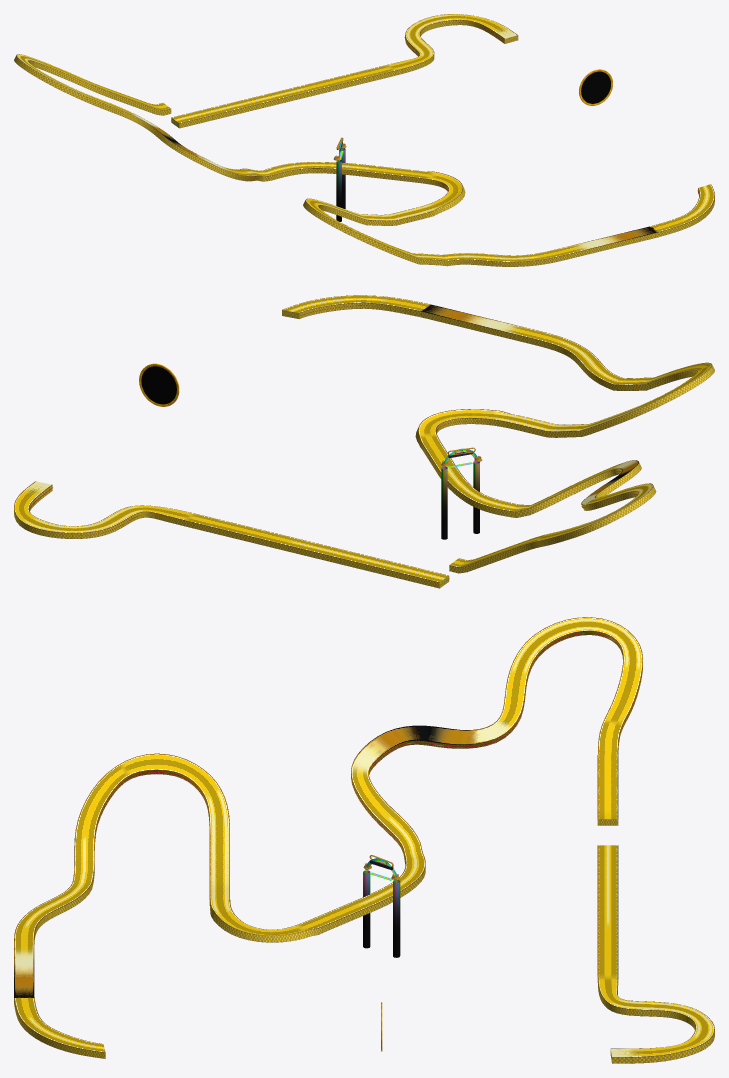
3 renders of one model, top to bottom at view 1: azimuth 30°, elevation 25°; view 2: azimuth 150°, elevation 25°; view 3: azimuth 270°, elevation 25°, orthographic. The views are drawn at different scales.
Parts seen in each view (by area): view 1: 002_Merged_Objects_1, 006_Body_LOD0, 005_Buffer_Object; view 2: 002_Merged_Objects_1, 006_Body_LOD0, 005_Buffer_Object; view 3: 002_Merged_Objects_1, 005_Buffer_Object, 003_Merged_Objects.
Part boxes in pixels (x1,y1,x2,y2): 002_Merged_Objects_1: (14,14,714,266); 006_Body_LOD0: (579,69,612,105); 005_Buffer_Object: (336,140,345,221); 002_Merged_Objects_1: (14,295,714,588); 006_Body_LOD0: (139,363,179,406); 005_Buffer_Object: (441,448,479,539); 002_Merged_Objects_1: (14,617,714,1063); 005_Buffer_Object: (363,858,400,957); 003_Merged_Objects: (94,633,642,852).
Size of the model in its own units: 131 by 36.89 by 124.
Materials: 5 (4 with a texture image).
